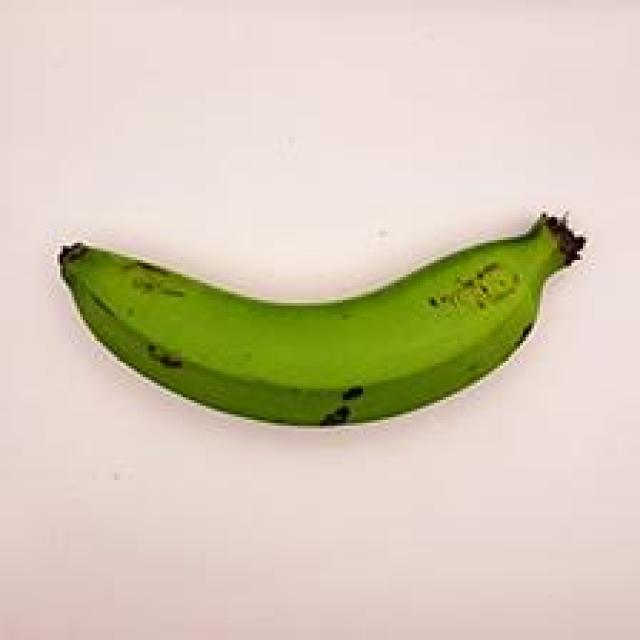Raw: (47, 199, 596, 439)
